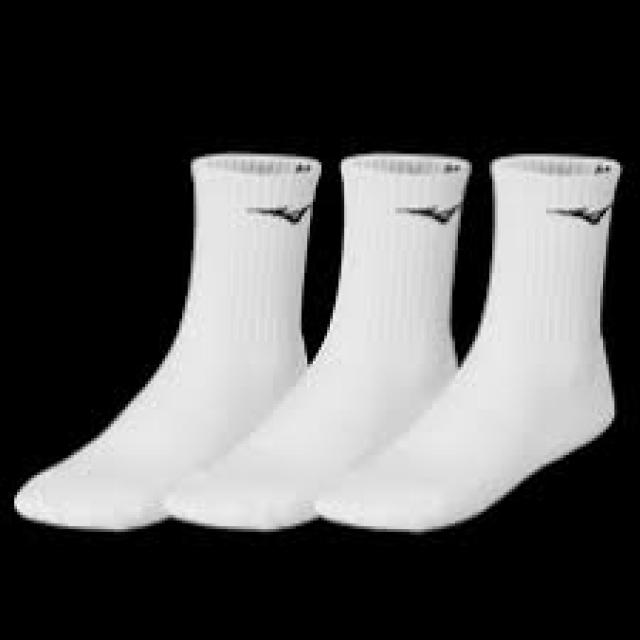sock: (159, 151, 472, 532), (11, 151, 322, 532), (313, 151, 620, 532)
